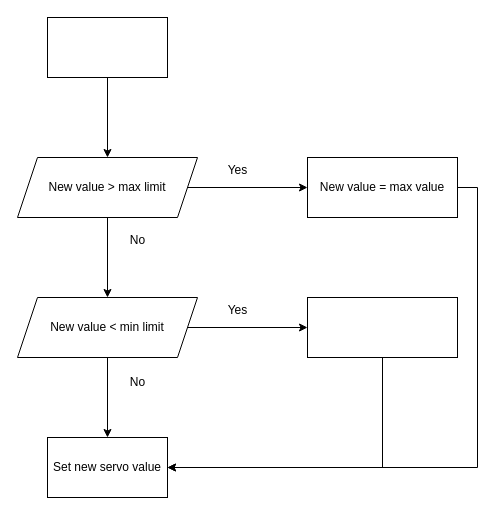
The diagram is 503 pixels wide and 515 high, and some of its shapes have lost their labels. The centre of each missing label's shape, as x and y in pixels:
New value = min value: point 382,327
Update servo value: point 107,47
